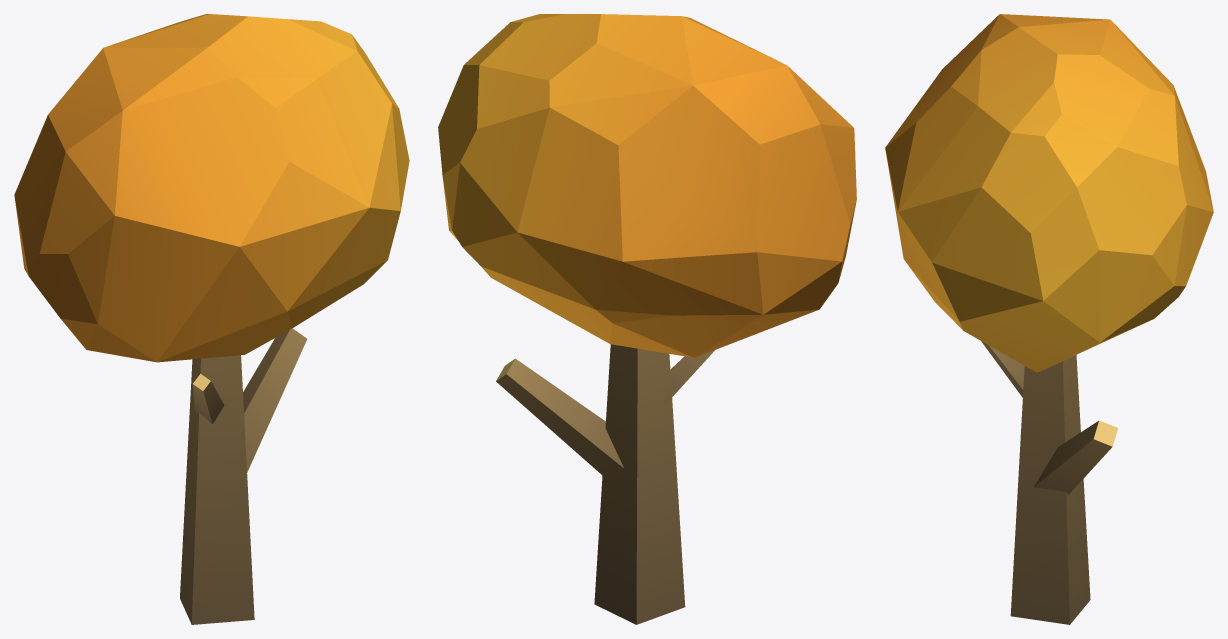
The model's file is Tree_6.fbx.
3 renders of one model, left to right at view 1: azimuth 30°, elevation 25°; view 2: azimuth 150°, elevation 25°; view 3: azimuth 270°, elevation 25°, orthographic. The views are drawn at different scales.
Visible parts, largest first — view 1: Tree_6; view 2: Tree_6; view 3: Tree_6.
Boxes of the visible parts, x1,y1,x2,y2 form: Tree_6: (14,14,409,624); Tree_6: (438,14,856,624); Tree_6: (885,14,1213,624).
Bounding box in the file's own units: 446 × 647 × 338.
